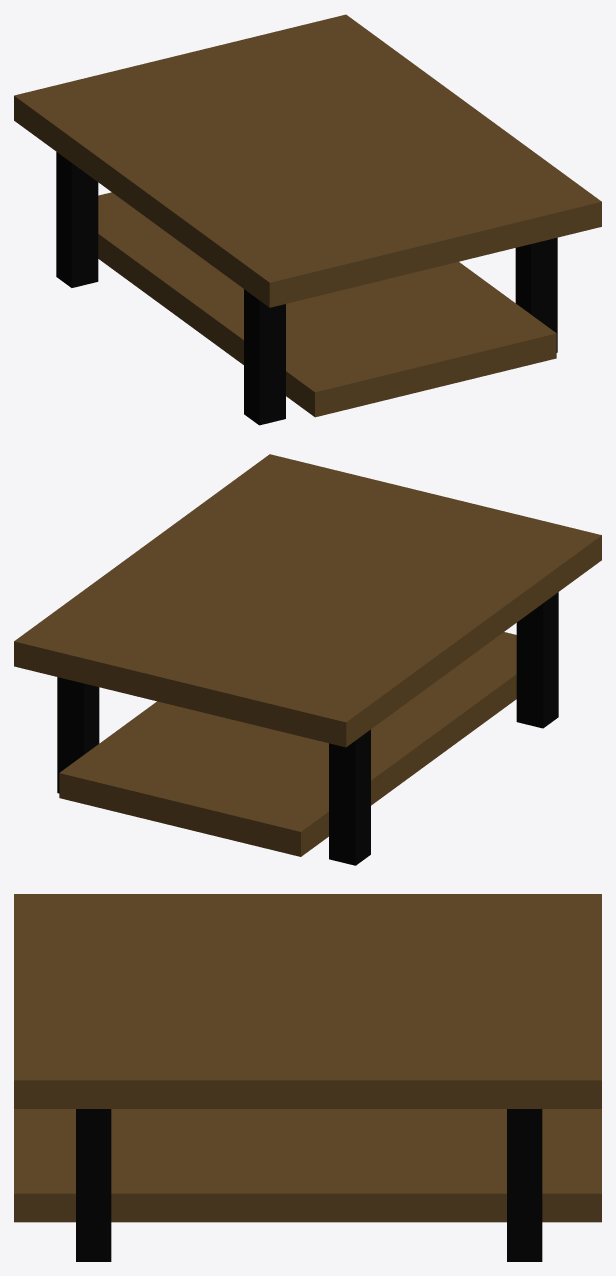
File: coffetable.fbx
3 views of the same model, one above another, from view 1: azimuth 30°, elevation 25°; view 2: azimuth 150°, elevation 25°; view 3: azimuth 270°, elevation 25° (orthographic). The views are drawn at different scales.
Visible parts, largest first — view 1: Cube; view 2: Cube; view 3: Cube.
Boxes of the visible parts, box(x1,y1,x2,y2) form: Cube: box(14, 14, 601, 425); Cube: box(14, 454, 601, 865); Cube: box(14, 894, 601, 1261).
Bounding box in the file's own units: 150 × 71.78 × 200.
